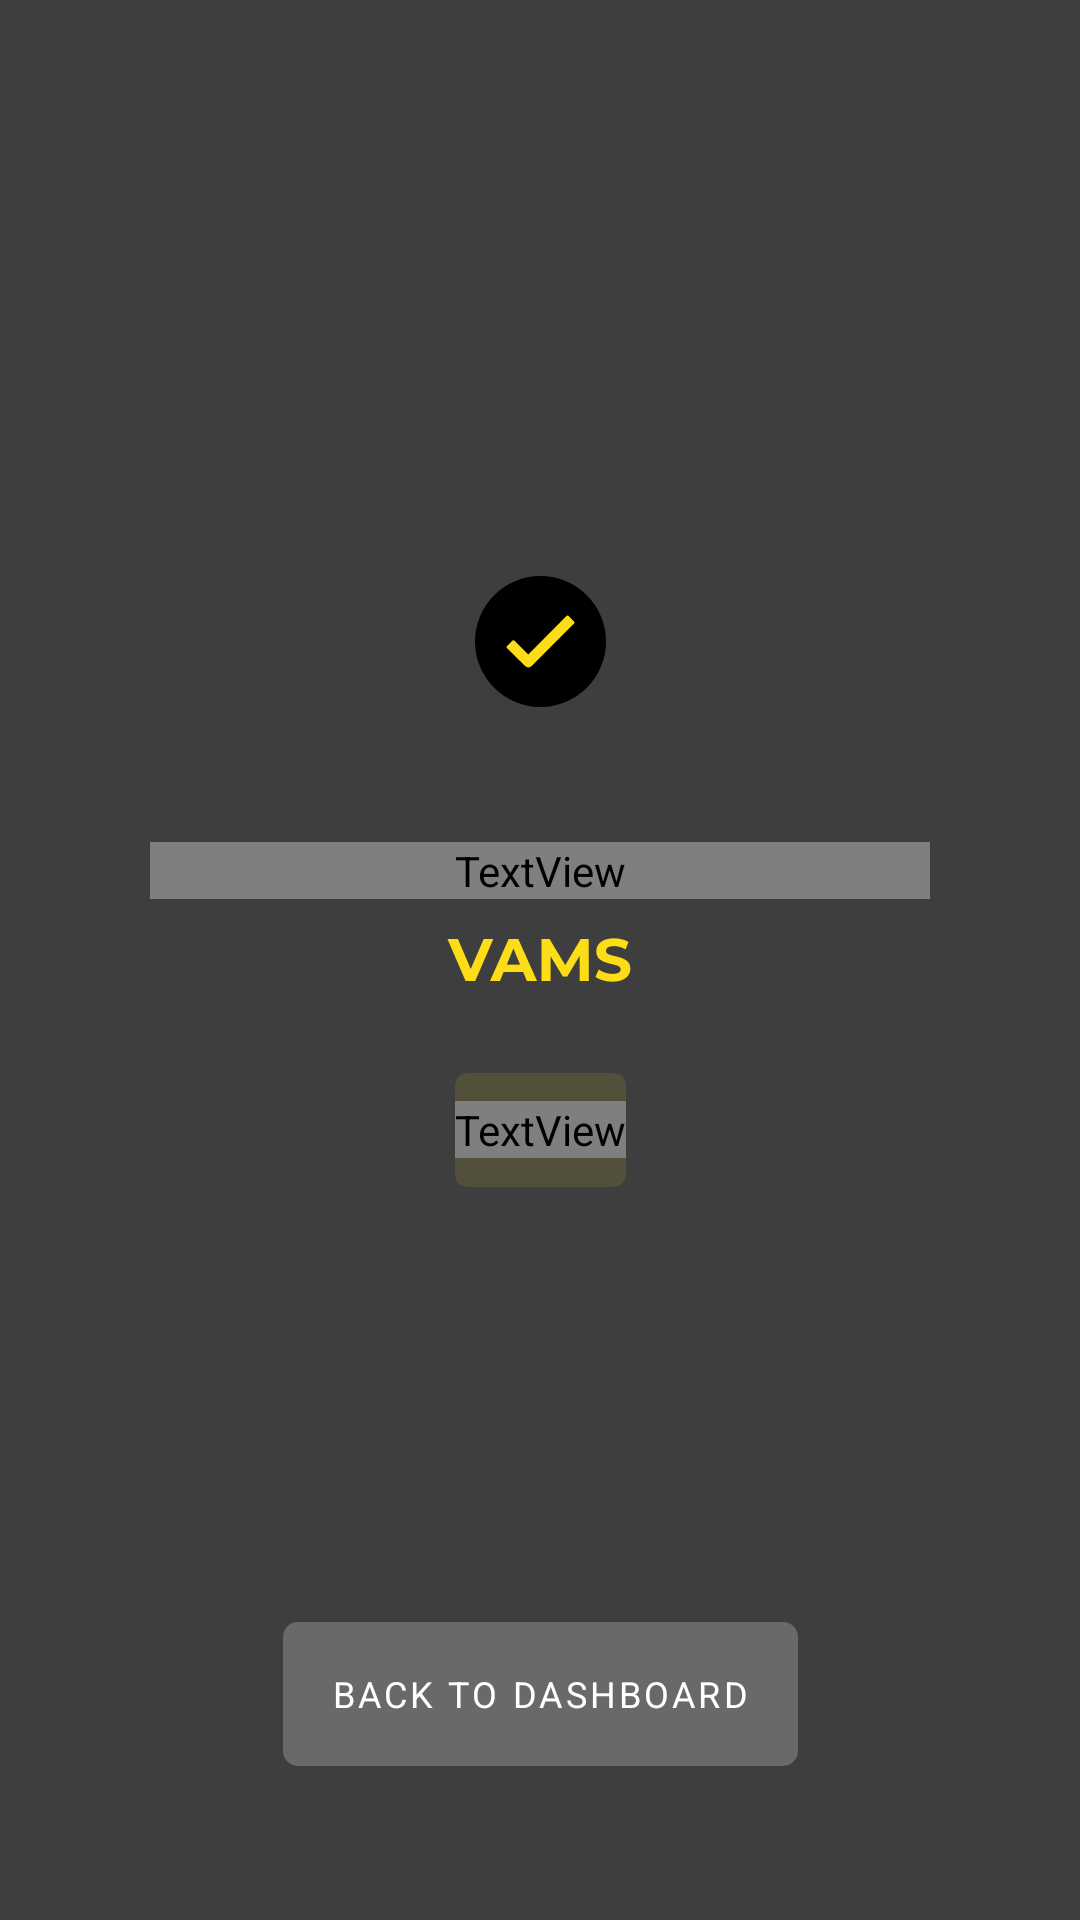

Named icons in this screenshot (1080px x 1920px) and their bounding boxes, (x1, y1, x2, y2):
check: (475, 576, 606, 707)
